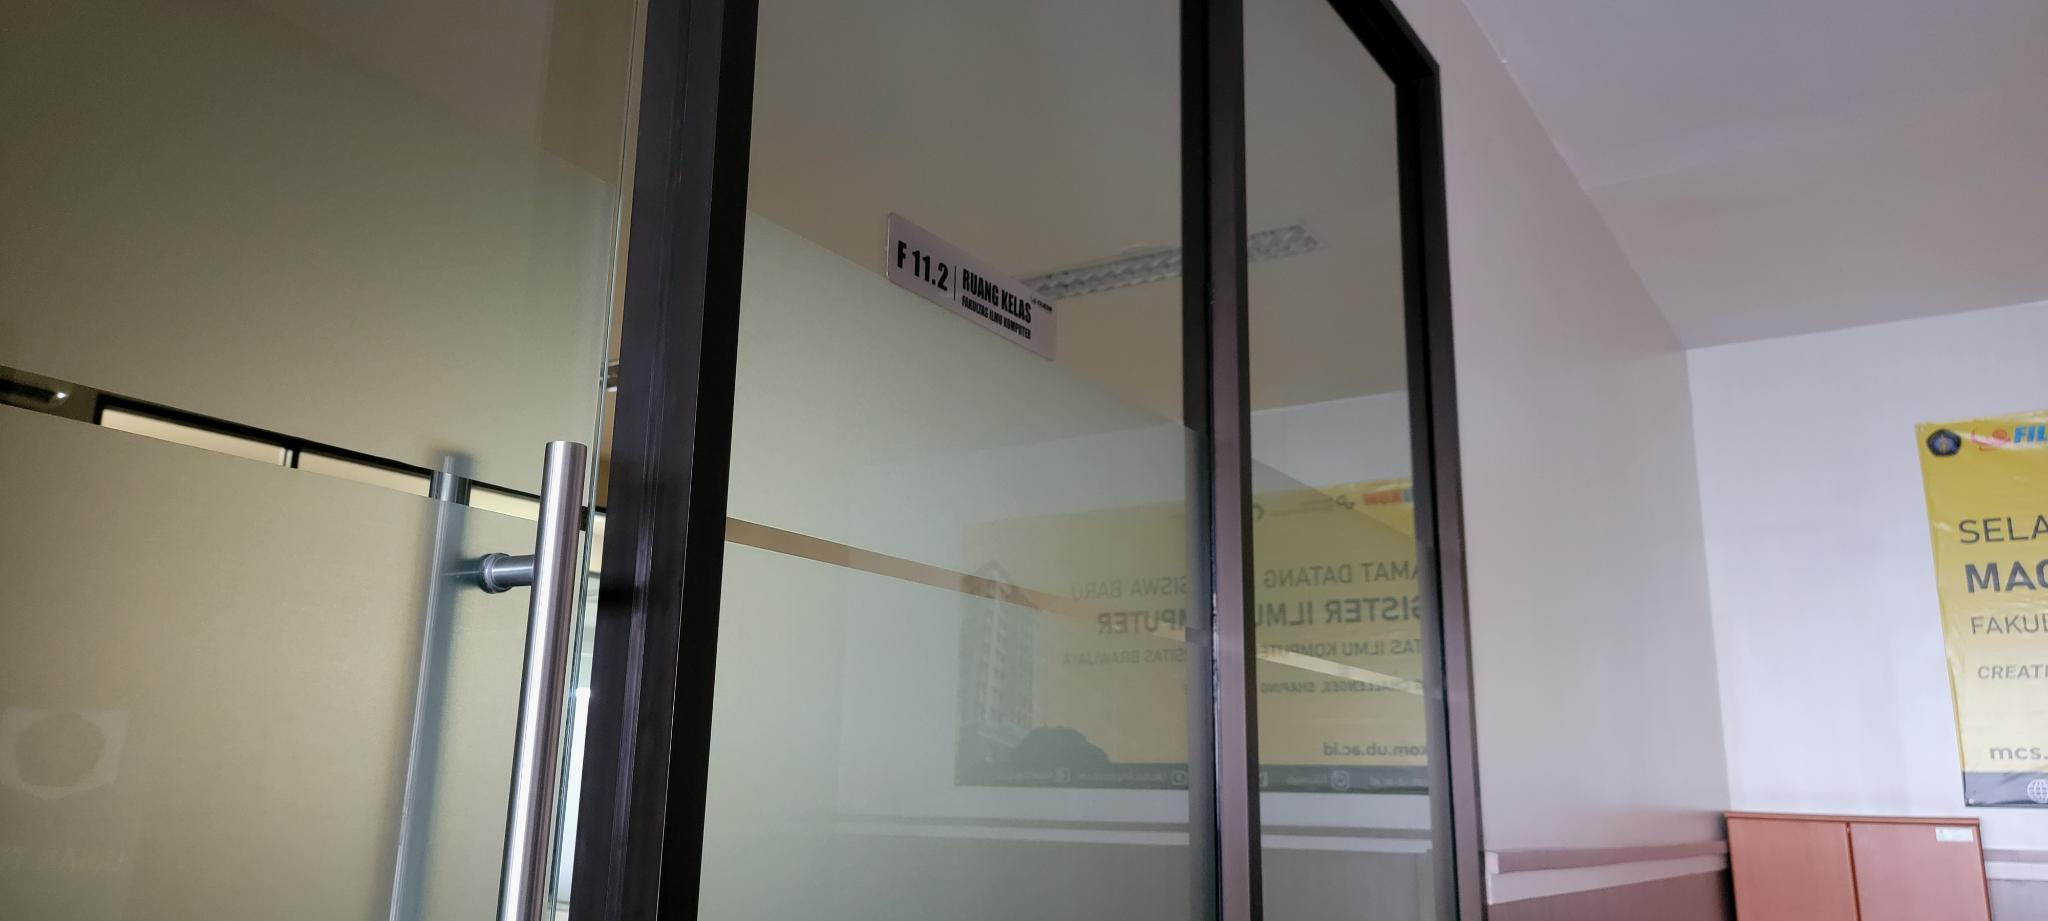plate: (886, 204, 1063, 368)
